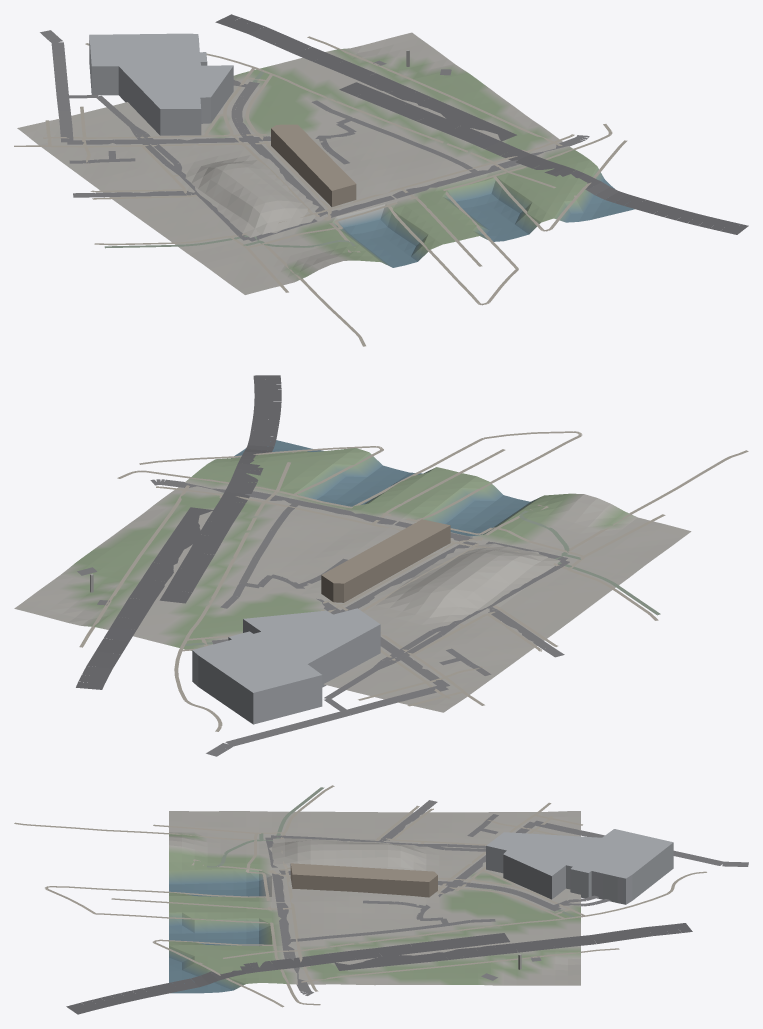
Rendered from tile_-1_4.glb.
3 views of the same model, one above another, from view 1: azimuth 30°, elevation 25°; view 2: azimuth 150°, elevation 25°; view 3: azimuth 270°, elevation 25° (orthographic). The views are drawn at different scales.
Parts seen in each view (by area): view 1: terrain, roads, buildings; view 2: terrain, roads, buildings; view 3: terrain, roads, buildings.
Part boxes in pixels (x1,y1,x2,y2): terrain: [17, 32, 634, 294]; roads: [14, 14, 748, 346]; buildings: [89, 33, 409, 206]; terrain: [14, 440, 691, 712]; roads: [76, 375, 748, 756]; buildings: [90, 519, 450, 724]; terrain: [169, 811, 580, 993]; roads: [14, 785, 748, 1014]; buildings: [290, 829, 673, 969].
Bounding box in the file's own units: 333 × 23.78 × 457.
